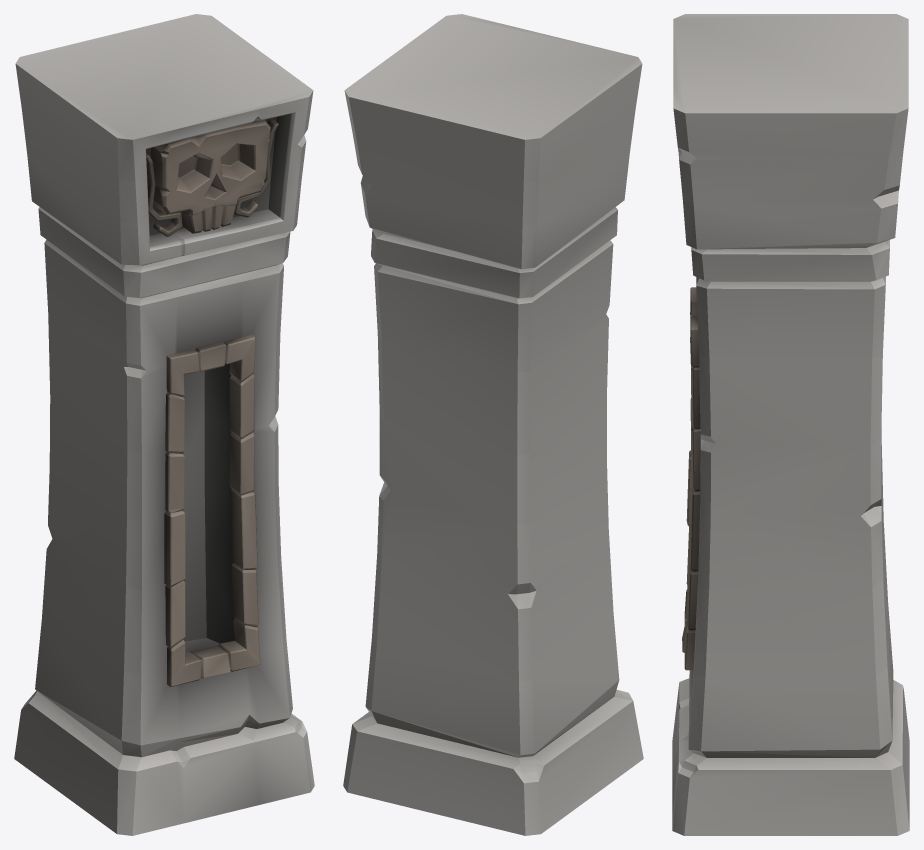
Rendered from obj_columnSkull_A.FBX.
The picture shows the model from 3 angles, left to right: view 1: azimuth 30°, elevation 25°; view 2: azimuth 150°, elevation 25°; view 3: azimuth 270°, elevation 25°; orthographic projection. The views are drawn at different scales.
Parts seen in each view (by area): view 1: obj_columnSkull_A; view 2: obj_columnSkull_A; view 3: obj_columnSkull_A.
Part boxes in pixels (<box>): obj_columnSkull_A: <box>14,14,314,835</box>; obj_columnSkull_A: <box>343,14,643,835</box>; obj_columnSkull_A: <box>672,14,909,835</box>.
Bounding box in the file's own units: 1.79 × 6 × 1.79.
